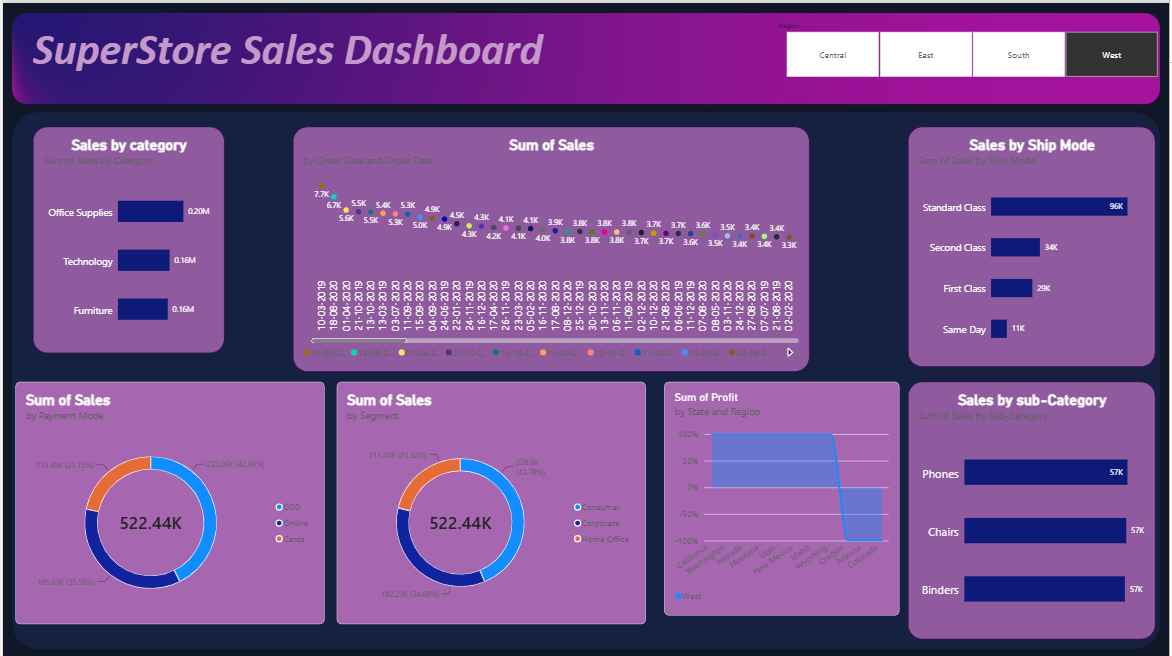

Layout of this report page (visuals, bound fields, positions):
{"tool":"powerbi","page":{"name":"Page 1","canvas":[1920,1080],"ordinal":0},"visuals":[{"type":"clusteredBarChart","title":" Sales by category","fields":{"Category":["SuperStore_Sales_Dataset.Category"],"Y":["Sum(SuperStore_Sales_Dataset.Sales)"]},"box":[49.4,203.8,314.9,372.6],"z":0},{"type":"clusteredBarChart","title":" Sales by sub-Category","fields":{"Category":["SuperStore_Sales_Dataset.Sub-Category"],"Y":["Sum(SuperStore_Sales_Dataset.Sales)"]},"box":[1490.2,623.7,407.5,424],"z":1000},{"type":"clusteredBarChart","title":" Sales by Ship Mode","fields":{"Category":["SuperStore_Sales_Dataset.Ship Mode"],"Y":["Sum(SuperStore_Sales_Dataset.Sales)"]},"box":[1490.2,203.8,407.5,395.2],"z":2000},{"type":"areaChart","fields":{"Category":["SuperStore_Sales_Dataset.Order Date"],"Series":["SuperStore_Sales_Dataset.Order Date"],"Y":["Sum(SuperStore_Sales_Dataset.Sales)"]},"box":[477.5,203.8,850.1,403.4],"z":3000},{"type":"donutChart","fields":{"Category":["SuperStore_Sales_Dataset.Segment"],"Y":["Sum(SuperStore_Sales_Dataset.Sales)"]},"box":[549.6,623.7,508.4,399.3],"z":4000},{"type":"donutChart","fields":{"Category":["SuperStore_Sales_Dataset.Payment Mode"],"Y":["Sum(SuperStore_Sales_Dataset.Sales)"]},"box":[20.6,623.7,508.4,399.3],"z":5000},{"type":"slicer","fields":{"Values":["SuperStore_Sales_Dataset.Region"]},"box":[1270,30.9,650.4,92.6],"z":6000},{"type":"textbox","box":[49.4,30.9,1354.4,127.6],"z":7000},{"type":"hundredPercentStackedAreaChart","fields":{"Category":["SuperStore_Sales_Dataset.State"],"Series":["SuperStore_Sales_Dataset.Region"],"Y":["Sum(SuperStore_Sales_Dataset.Profit)"]},"box":[1088.9,623.7,387,384.9],"z":7001}]}

Visuals, with their boxes in screenshot pixels (x1, y1, x2, y2), scaled from the page's 1920x1080 canvas onto the 1172x656 screenshot:
" Sales by category" clusteredBarChart: [30,124,222,350]
" Sales by sub-Category" clusteredBarChart: [910,379,1158,636]
" Sales by Ship Mode" clusteredBarChart: [910,124,1158,364]
areaChart - SuperStore_Sales_Dataset.Order Date x SuperStore_Sales_Dataset.Order Date: [291,124,810,369]
donutChart - SuperStore_Sales_Dataset.Segment x Sum(SuperStore_Sales_Dataset.Sales): [335,379,646,621]
donutChart - SuperStore_Sales_Dataset.Payment Mode x Sum(SuperStore_Sales_Dataset.Sales): [13,379,323,621]
slicer - SuperStore_Sales_Dataset.Region: [775,19,1171,75]
textbox: [30,19,857,96]
hundredPercentStackedAreaChart - SuperStore_Sales_Dataset.State x SuperStore_Sales_Dataset.Region: [665,379,901,613]
